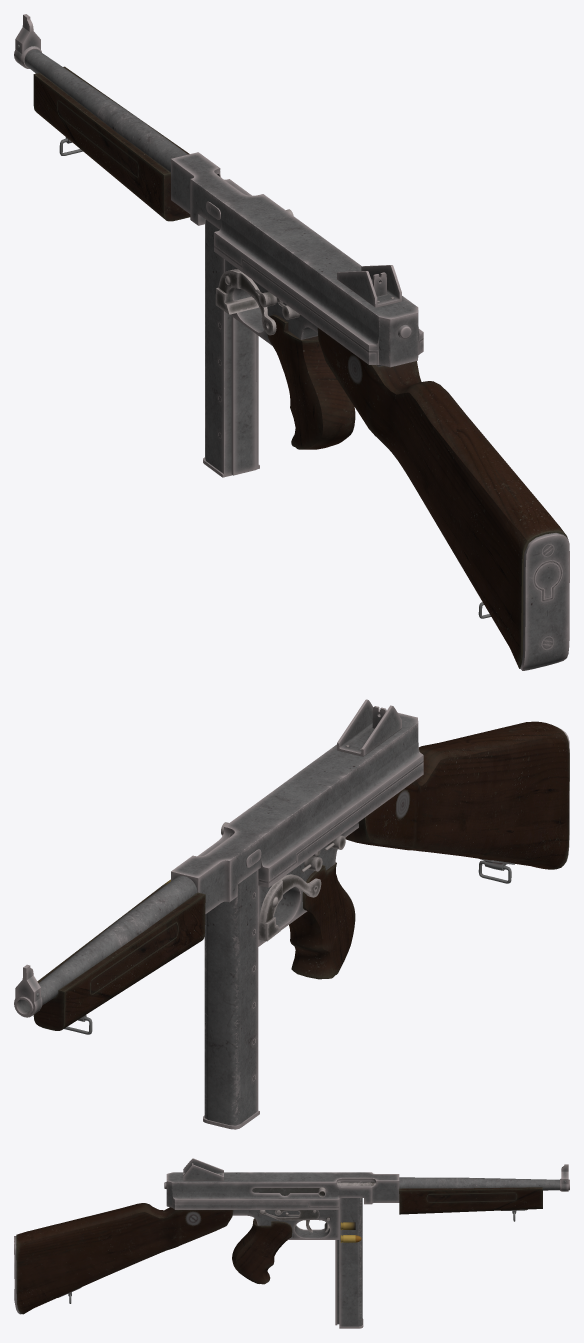
Rendered from thompson.glb.
The picture shows the model from 3 angles, top to bottom: view 1: azimuth 30°, elevation 25°; view 2: azimuth 150°, elevation 25°; view 3: azimuth 270°, elevation 25°; orthographic projection. The views are drawn at different scales.
Visible parts, largest first — view 1: Stock_low, Receiver_low, Magazine_low, Forend_low, PistolGrip_low, Barrel_low, IronsightBack_low, MagHolder_low, IronsightFront_low; view 2: Stock_low, Receiver_low, Magazine_low, Forend_low, PistolGrip_low, Barrel_low, IronsightBack_low, MagHolder_low, IronsightFront_low; view 3: Stock_low, Receiver_low, Forend_low, Magazine_low, PistolGrip_low, Barrel_low, IronsightBack_low, Shutter_low, ReceiverOther_low.
Part boxes in pixels (x1,y1,x2,y2): Stock_low: (317,328,569,670); Receiver_low: (171,152,423,367); Magazine_low: (203,219,259,477); Forend_low: (33,66,190,221); PistolGrip_low: (267,314,355,449); Barrel_low: (24,49,187,172); IronsightBack_low: (337,265,401,307); MagHolder_low: (215,269,276,335); IronsightFront_low: (14,14,41,68); Stock_low: (345,721,569,869); Receiver_low: (171,713,423,946); Magazine_low: (203,870,259,1129); Forend_low: (33,884,205,1030); PistolGrip_low: (289,862,355,979); Barrel_low: (14,876,197,1016); IronsightBack_low: (337,699,401,756); MagHolder_low: (258,874,321,941); IronsightFront_low: (14,964,42,1017); Stock_low: (14,1203,233,1314); Receiver_low: (164,1172,399,1239); Forend_low: (399,1187,542,1214); Magazine_low: (335,1181,363,1328); PistolGrip_low: (232,1218,292,1284); Barrel_low: (399,1177,569,1190); IronsightBack_low: (183,1158,223,1180); Shutter_low: (252,1182,375,1197); ReceiverOther_low: (259,1210,330,1221).
Bounding box in the file's own units: 0.0905 × 0.2779 × 0.8642.
Materials: 1 (1 with a texture image).
